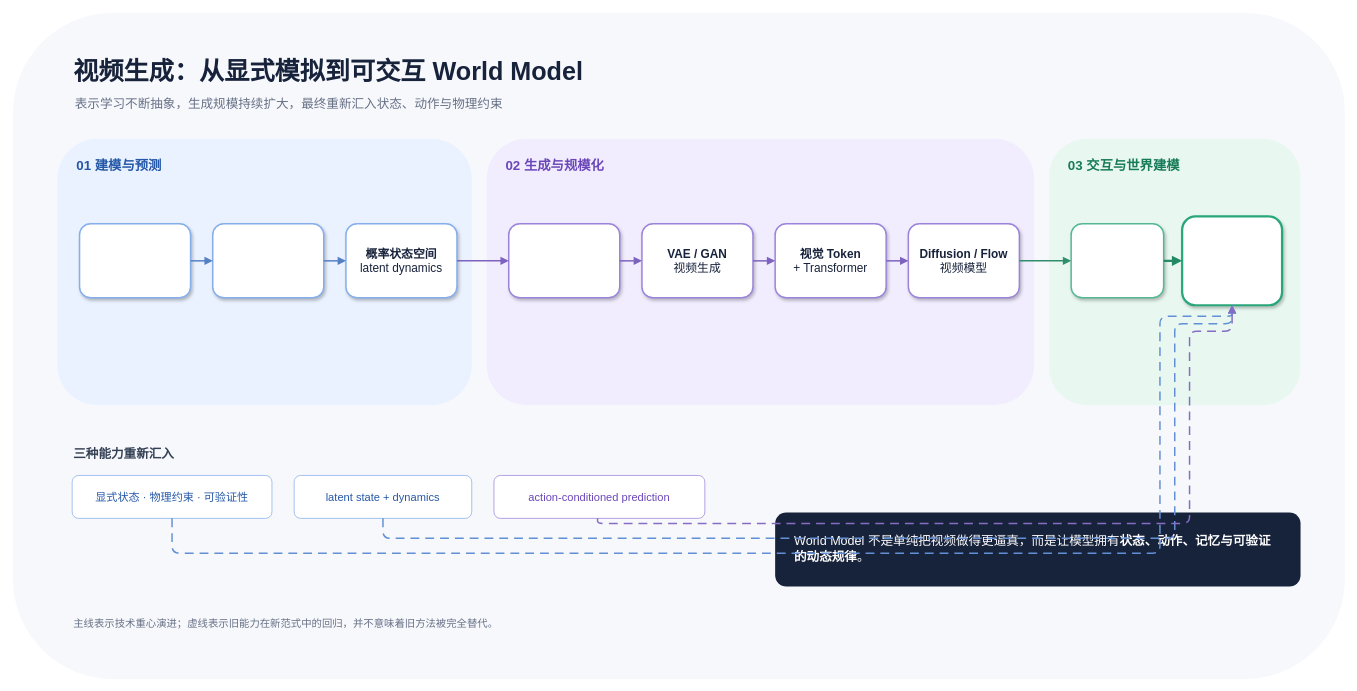
Some shapes in this 1357 by 691 pixel diagram are drawn without their labels. The centre of each missing label's shape, as x and y in pixels:
"CNN / RNN 视频预测" goes at pixel 565 261.
"光流 · Warping & 动态纹理" goes at pixel 269 261.
"动作条件与可交互 World Model" goes at pixel 1232 261.
"大规模视频 基础模型" goes at pixel 1117 261.
"显式图形学 & 物理模拟" goes at pixel 135 261.
